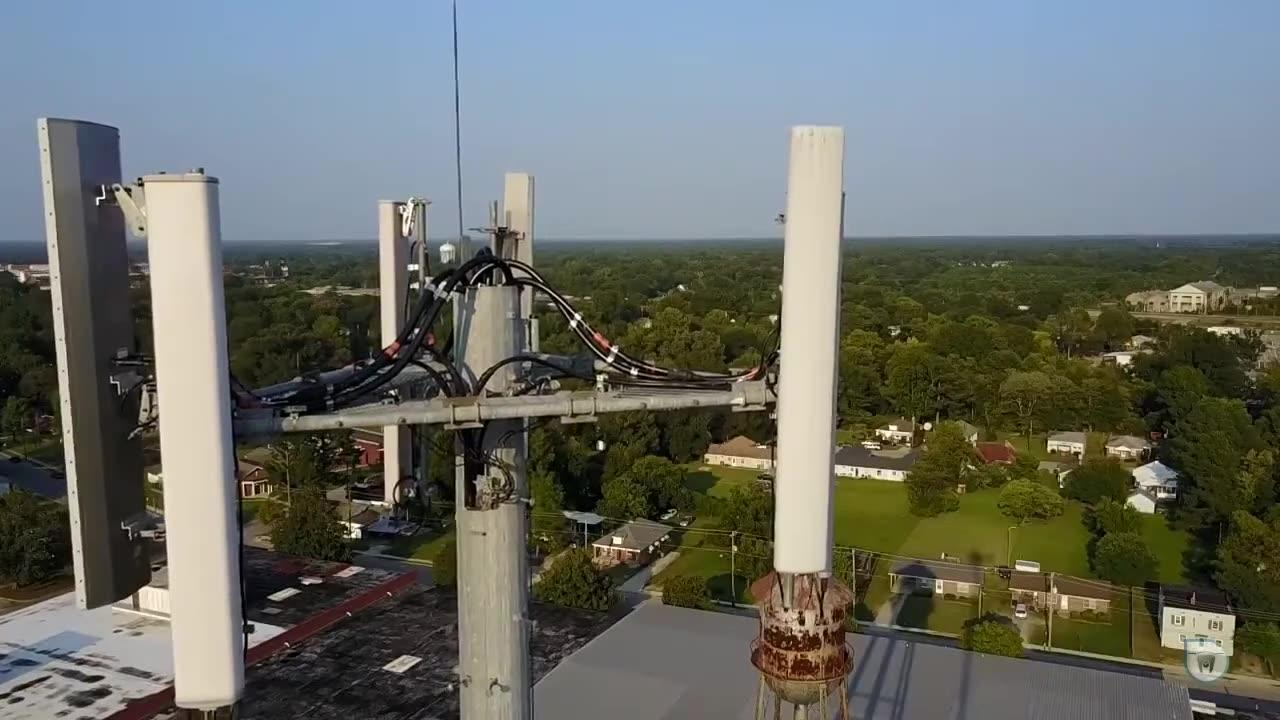antenna: (111, 172, 249, 715), (32, 118, 167, 612), (773, 125, 851, 577), (379, 189, 434, 528), (501, 165, 542, 484)
